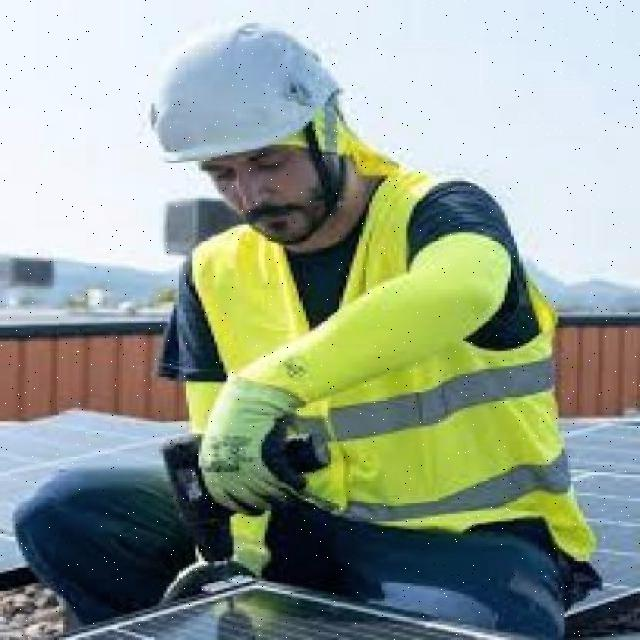Hard_hat: (153, 15, 352, 174)
Vest: (204, 198, 561, 538)
